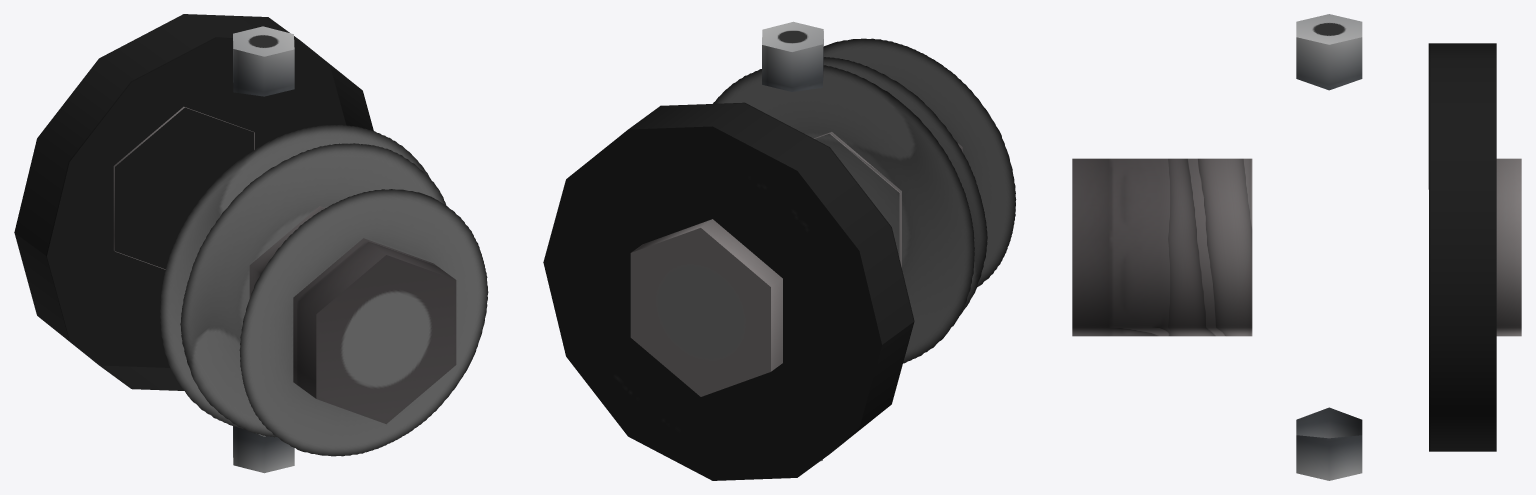
The model's file is obj_interactive_suspensionsport_02_on.fbx.
3 renders of one model, left to right at view 1: azimuth 30°, elevation 25°; view 2: azimuth 150°, elevation 25°; view 3: azimuth 270°, elevation 25°, orthographic. The views are drawn at different scales.
Parts seen in each view (by area): view 1: obj_interactive_suspensionsport_02_on; view 2: obj_interactive_suspensionsport_02_on; view 3: obj_interactive_suspensionsport_02_on.
Part boxes in pixels (left/top/right/bottom): obj_interactive_suspensionsport_02_on: left=14, top=14, right=488, bottom=473; obj_interactive_suspensionsport_02_on: left=543, top=21, right=1016, bottom=480; obj_interactive_suspensionsport_02_on: left=1072, top=14, right=1521, bottom=480.
Bounding box in the file's own units: 1.09 × 1.29 × 1.2.
